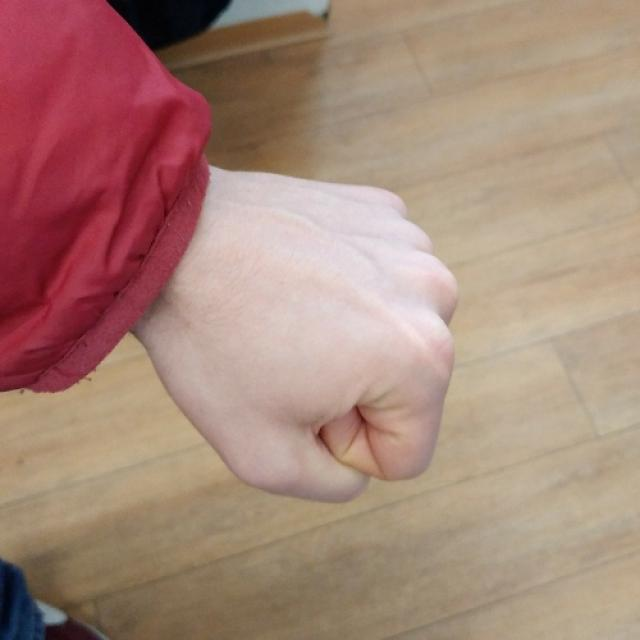fist: (154, 153, 478, 514)
